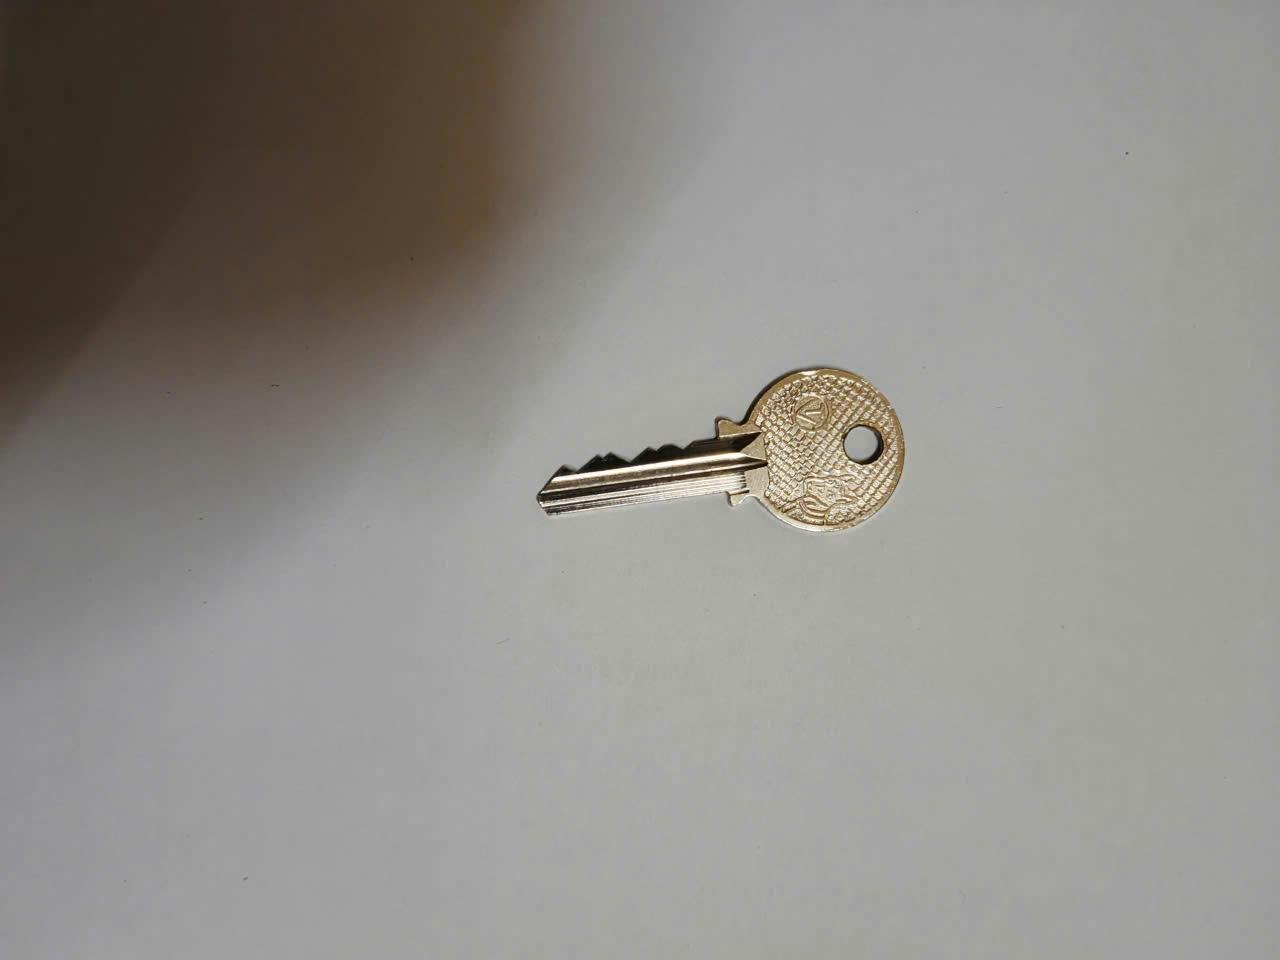Vo co: (536, 360, 906, 530)
